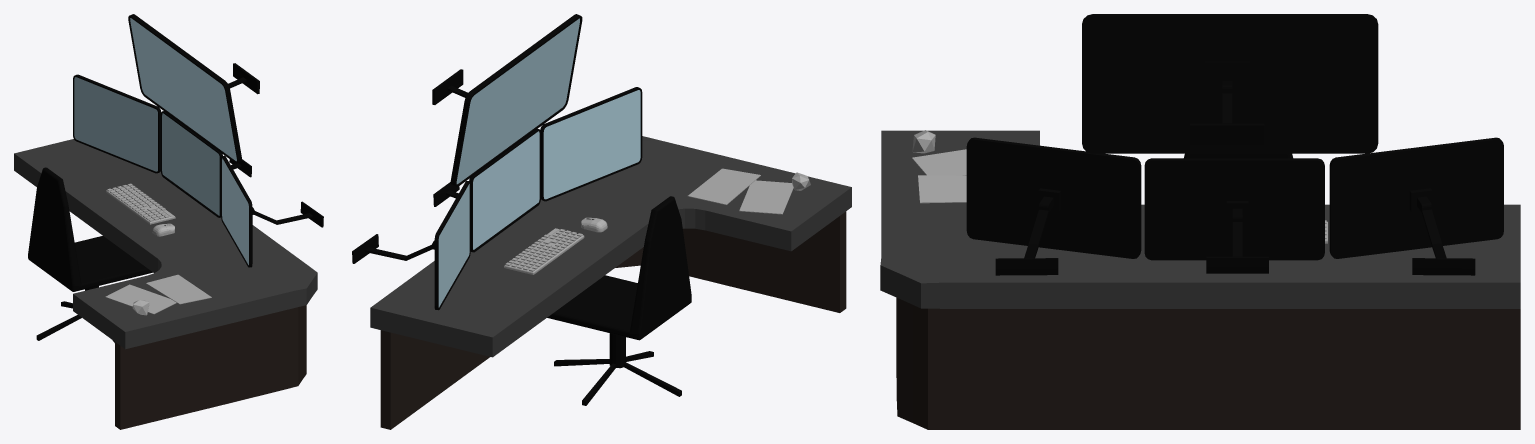
The model's file is setup.fbx.
The picture shows the model from 3 angles, left to right: view 1: azimuth 30°, elevation 25°; view 2: azimuth 150°, elevation 25°; view 3: azimuth 270°, elevation 25°; orthographic projection. The views are drawn at different scales.
Parts seen in each view (by area): view 1: table, monitor, chair, paper, keyboard; view 2: table, monitor, chair, paper, keyboard; view 3: table, monitor, paper, chair.
Boxes of the visible parts, left/top/right/bottom form: table: left=14, top=139, right=317, bottom=429; monitor: left=73, top=14, right=323, bottom=267; chair: left=28, top=167, right=152, bottom=342; paper: left=105, top=274, right=211, bottom=315; keyboard: left=106, top=183, right=175, bottom=224; table: left=370, top=136, right=851, bottom=429; monitor: left=352, top=14, right=642, bottom=310; chair: left=547, top=196, right=691, bottom=405; paper: left=687, top=168, right=810, bottom=214; keyboard: left=504, top=228, right=584, bottom=274; table: left=880, top=130, right=1520, bottom=429; monitor: left=966, top=14, right=1503, bottom=275; paper: left=912, top=130, right=966, bottom=203; chair: left=1184, top=153, right=1292, bottom=158.
Bounding box in the file's own units: 1.91 × 2.96 × 2.02.
